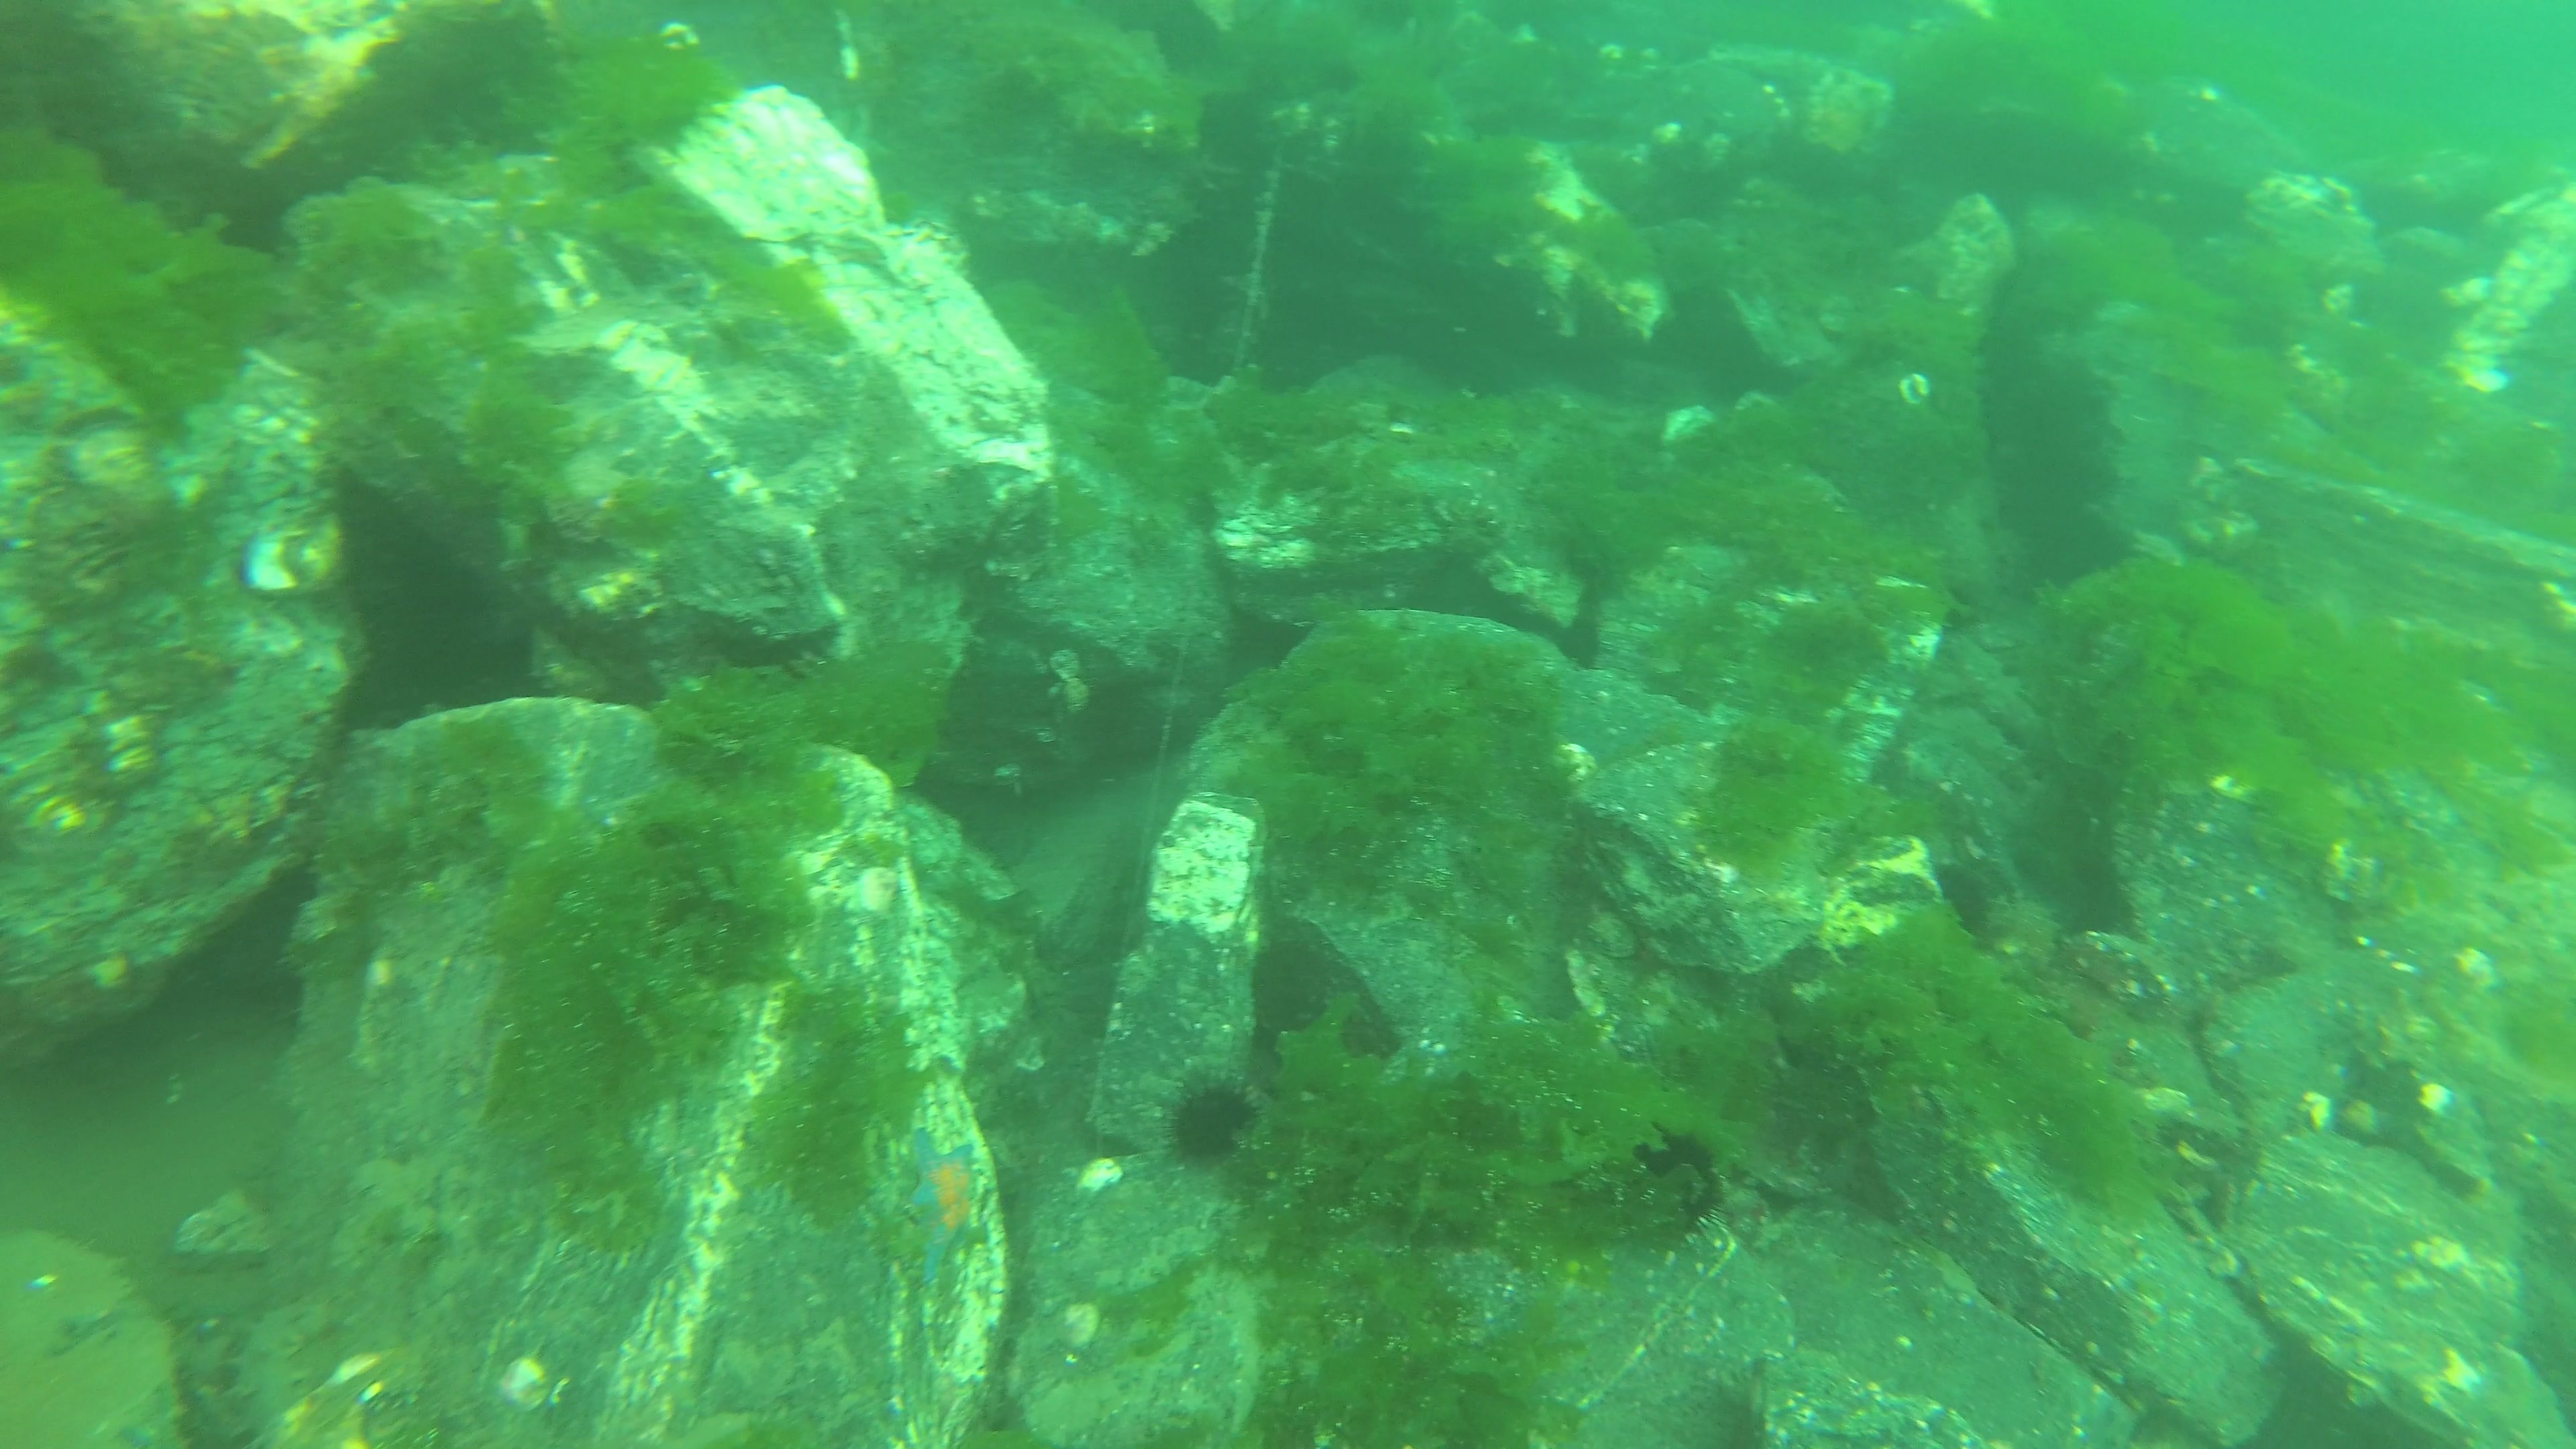echinus: (1166, 1079, 1254, 1166)
starfish: (908, 1132, 982, 1277), (1635, 1138, 1732, 1231)
